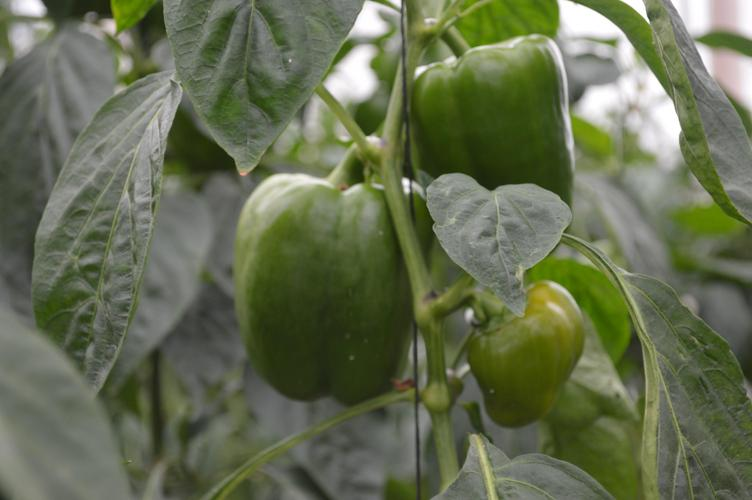BellPepper: (233, 181, 443, 391), (413, 39, 615, 241), (462, 285, 593, 416)
